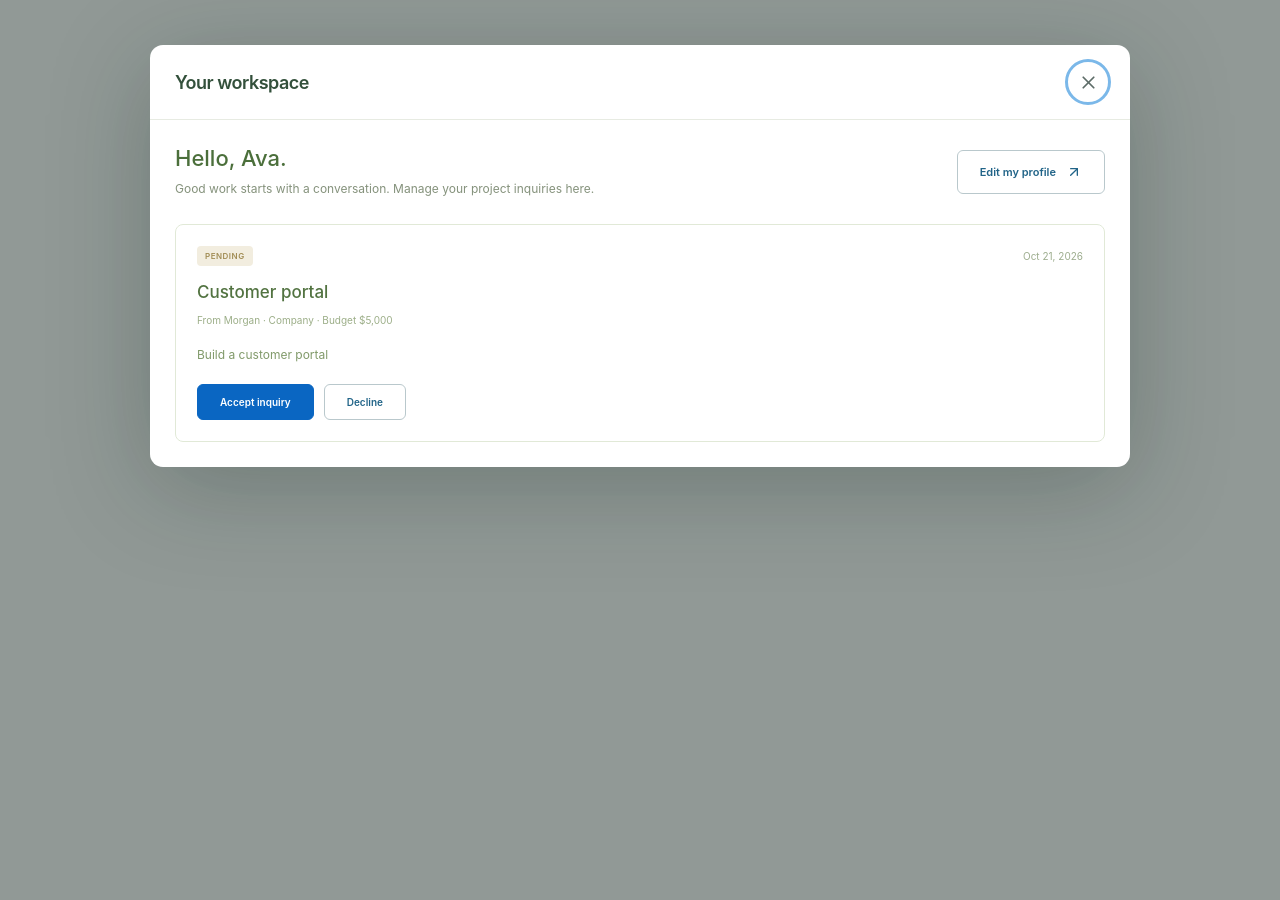
a provider accepts an inquiry and sees the persisted status
The width and height of the screenshot is (1280, 900).
Click the button "Accept inquiry" at (255, 402), box left=197, top=384, right=314, bottom=420
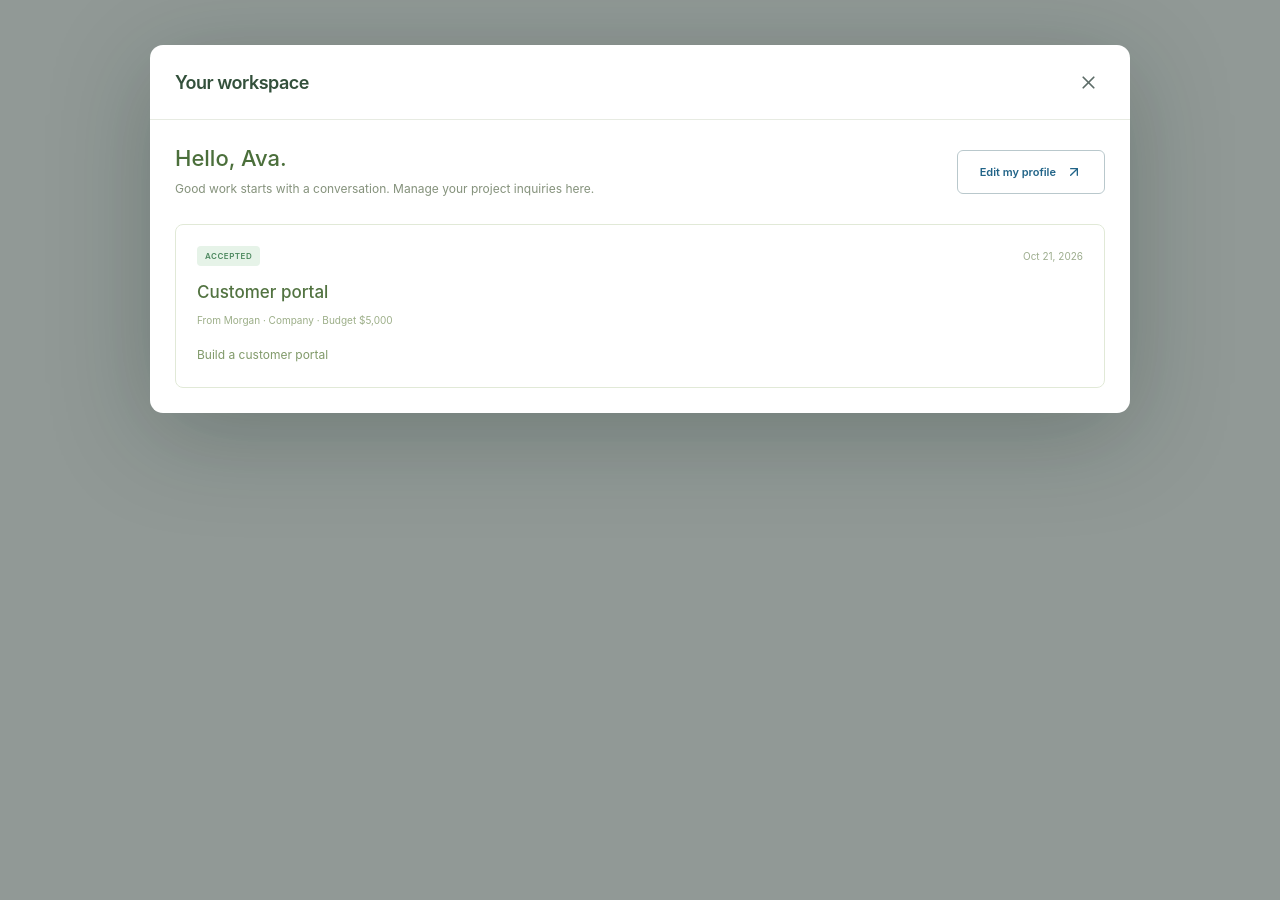
Now the text "ACCEPTED" is shown, box left=197, top=246, right=260, bottom=266
Now the button "Accept inquiry" is gone
